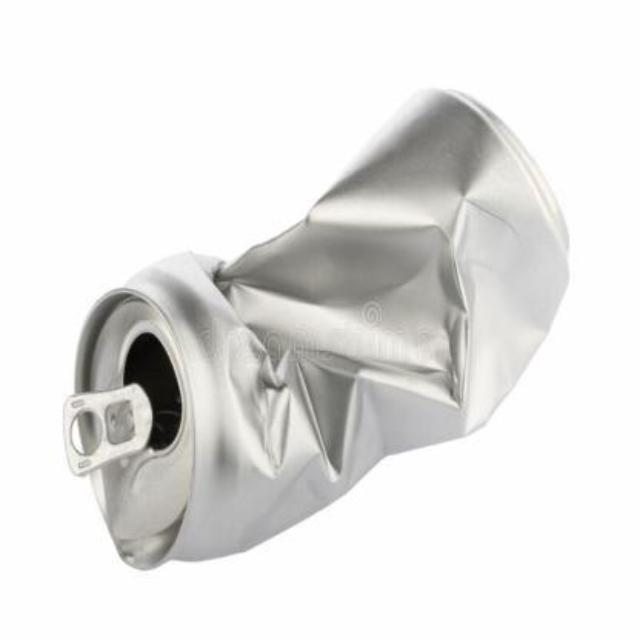metal: (65, 89, 565, 565)
